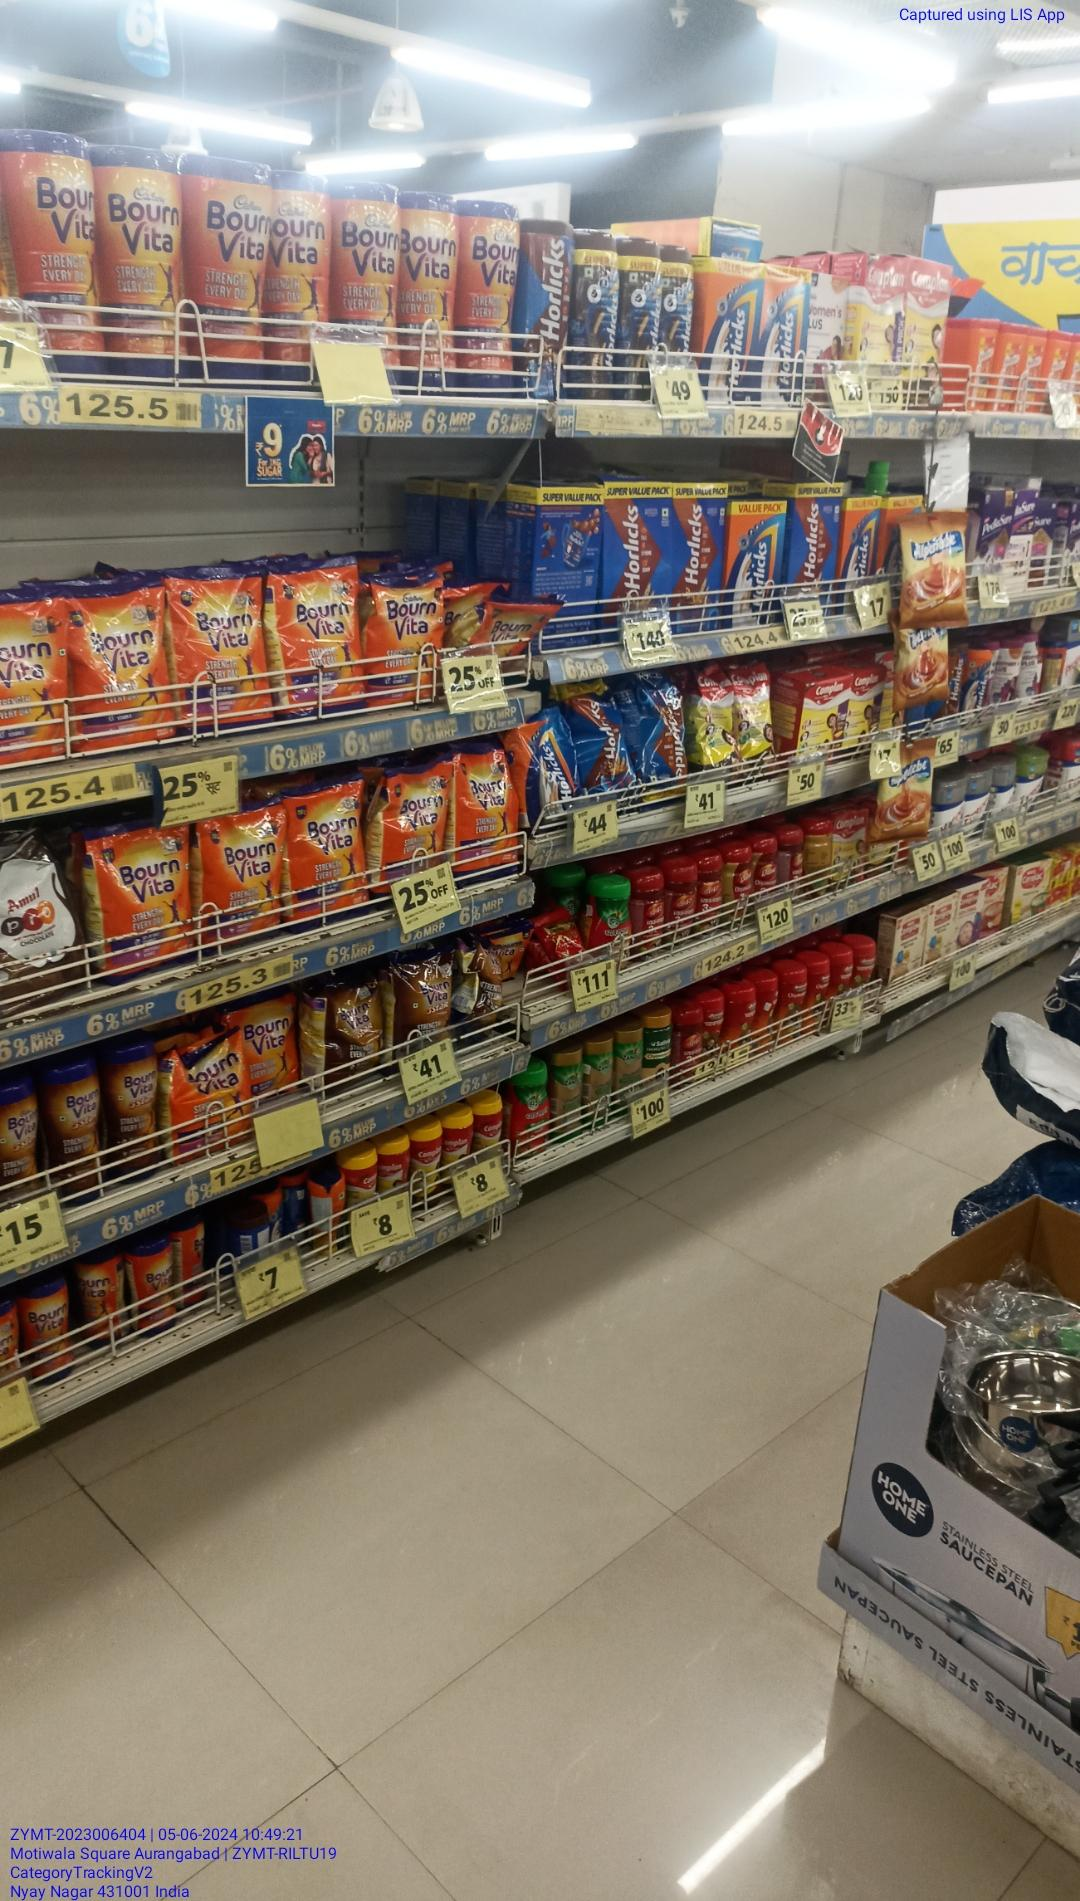BOURN_VITA_FIVE_STAR_MAGIC_500_G_JAR: (47, 1050, 101, 1204), (104, 1038, 159, 1182), (0, 1080, 37, 1196)
BOURN_VITA_FIVE_STAR_MAGIC_500_G_POUCH: (315, 971, 384, 1090), (397, 948, 449, 1058)
